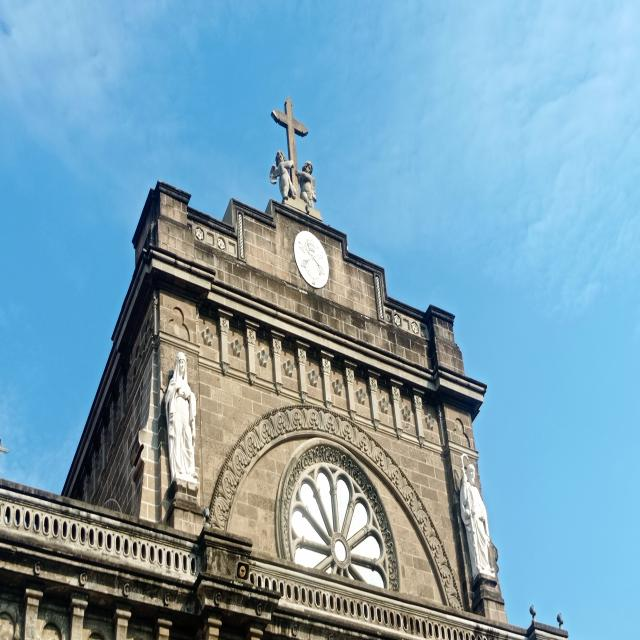Manila Cathedral: (0, 87, 573, 640)
